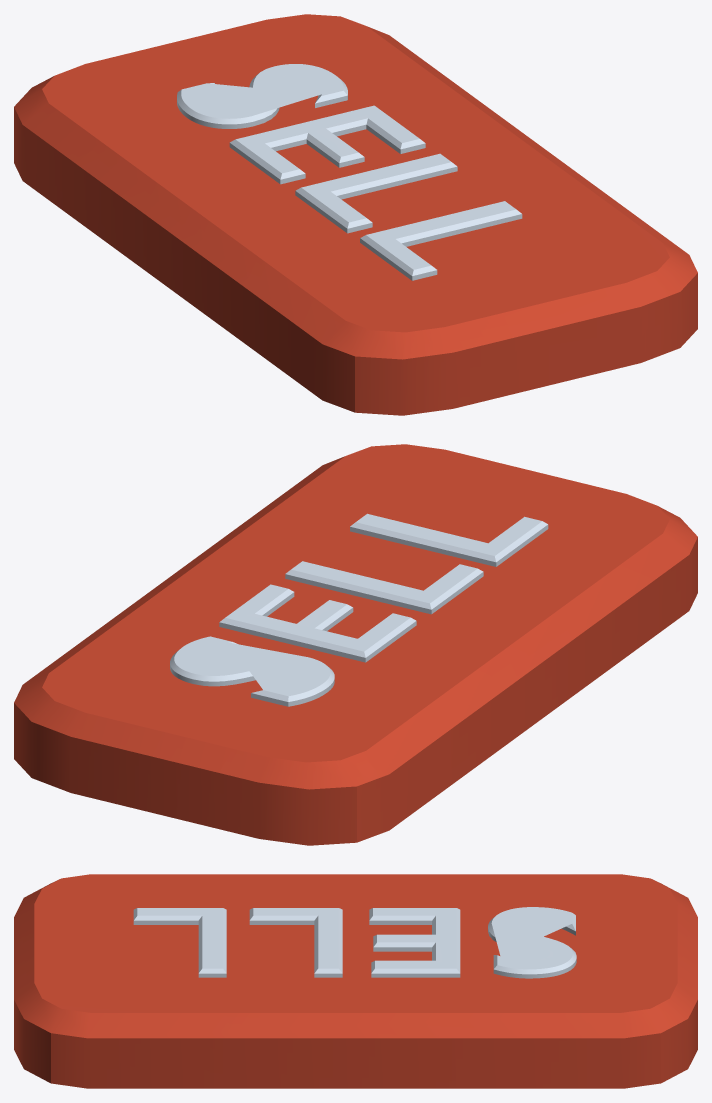
Rendered from sign_sell.fbx.
The picture shows the model from 3 angles, top to bottom: view 1: azimuth 30°, elevation 25°; view 2: azimuth 150°, elevation 25°; view 3: azimuth 270°, elevation 25°; orthographic projection. The views are drawn at different scales.
Visible parts, largest first — view 1: sign_sell; view 2: sign_sell; view 3: sign_sell.
Part boxes in pixels (box(x1,y1,x2,y2)): sign_sell: box(14, 14, 697, 415); sign_sell: box(14, 444, 697, 845); sign_sell: box(14, 874, 697, 1088).
Size of the model in its own units: 180 by 38.07 by 325.
